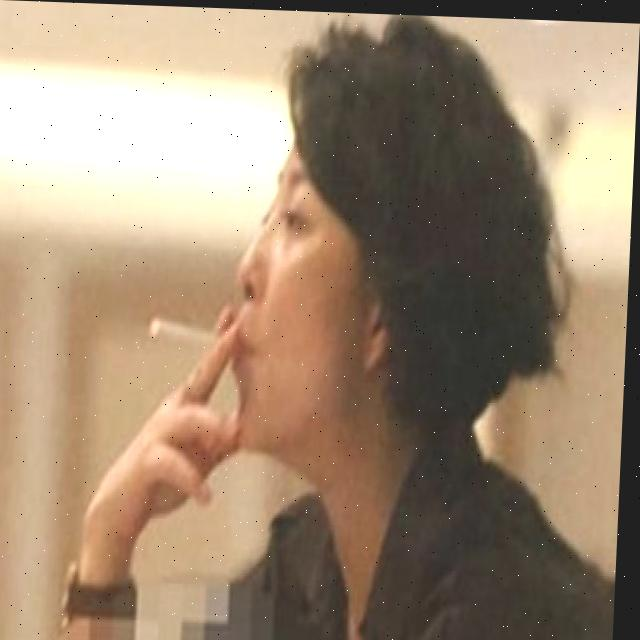cigarette: (151, 318, 230, 348)
